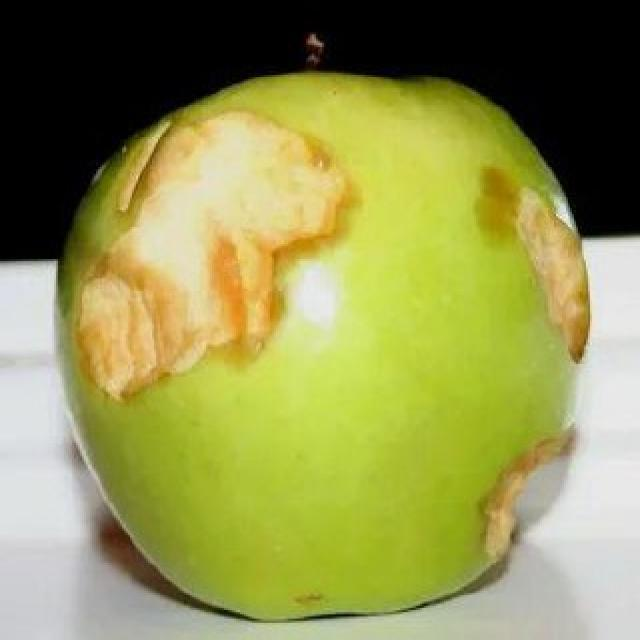Apple: (50, 63, 595, 625)
